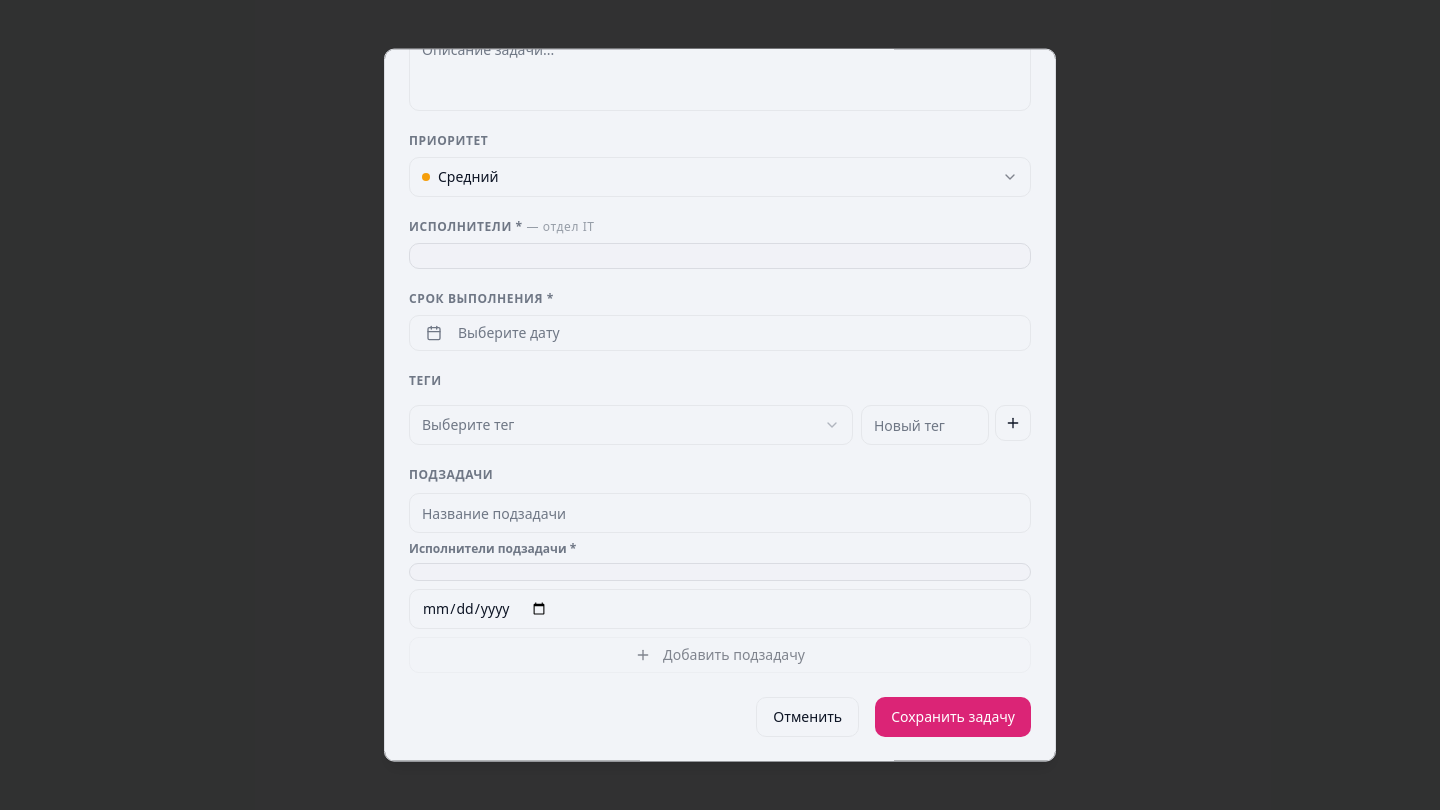
Test: CreateTaskModal › should show validation errors when submitting empty form
(page scrolled)
# Find and click submit button (might be labeled "Создать" or similar)
Click the button "Сохранить задачу" at (953, 717), box [875,697,1031,737]
(page scrolled)
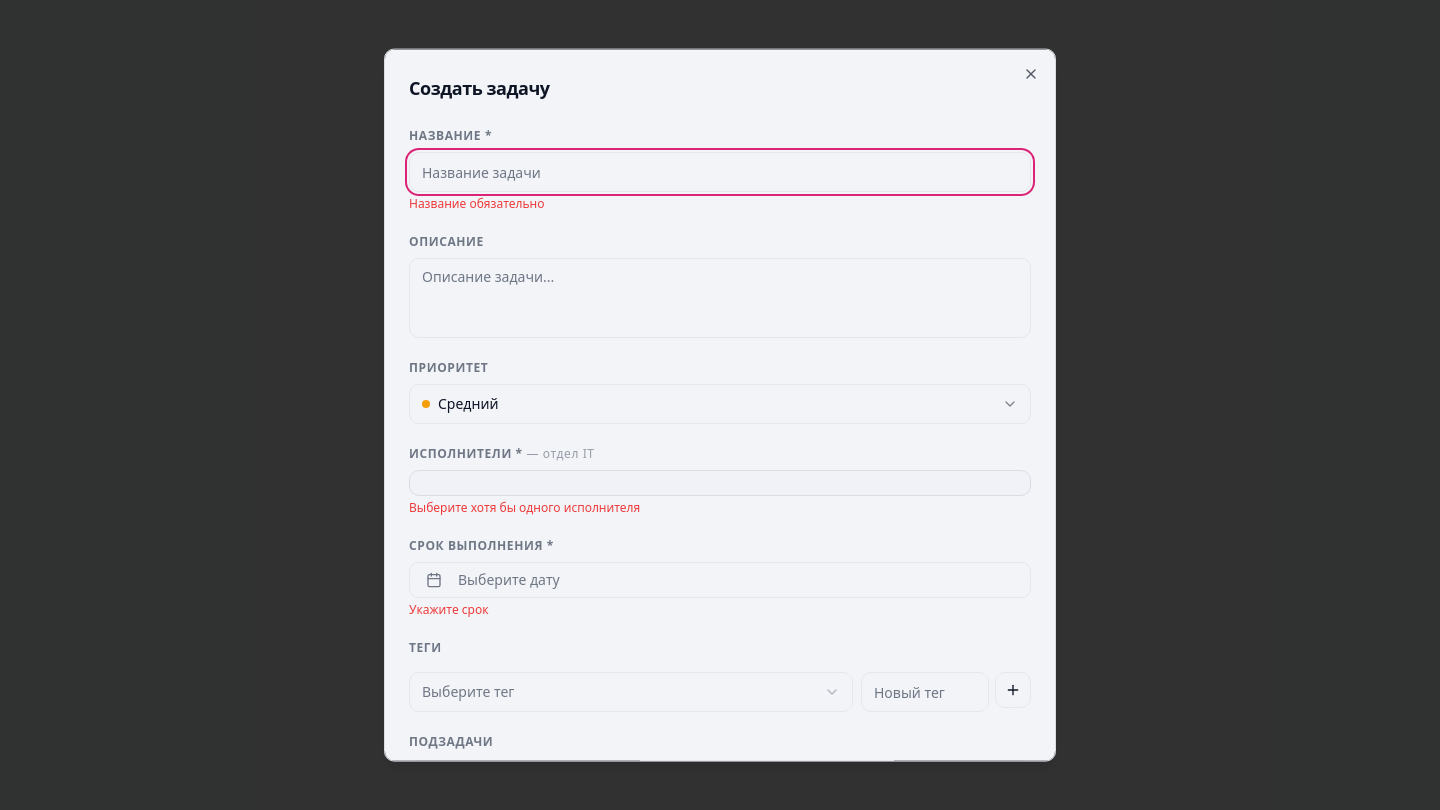
Expected: the text "Название обязательно" is shown, [409,195,544,212]
